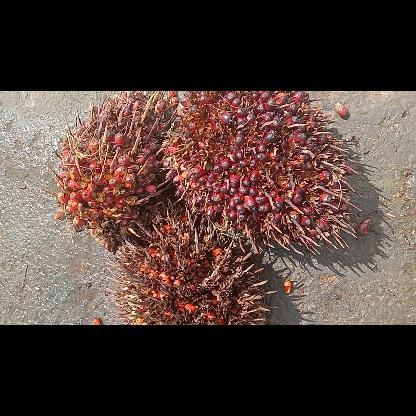TBS masak: (156, 90, 362, 254), (43, 90, 173, 252)
Terlalu masak: (103, 204, 277, 324)
